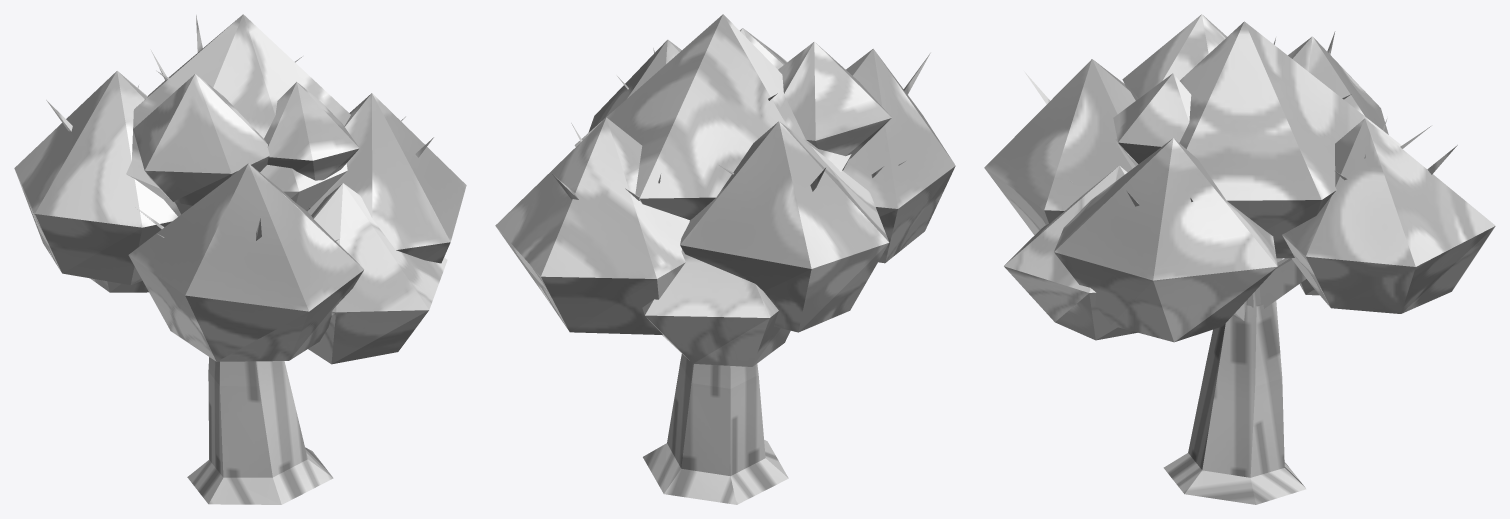
File: tree_oak_1.obj
The picture shows the model from 3 angles, left to right: view 1: azimuth 30°, elevation 25°; view 2: azimuth 150°, elevation 25°; view 3: azimuth 270°, elevation 25°; orthographic projection. The views are drawn at different scales.
Visible parts, largest first — view 1: tree_oak_1; view 2: tree_oak_1; view 3: tree_oak_1.
Boxes of the visible parts, x1,y1,x2,y2 form: tree_oak_1: [14, 14, 466, 504]; tree_oak_1: [495, 14, 955, 504]; tree_oak_1: [984, 14, 1495, 504].
Size of the model in its own units: 0.8444 by 1.04 by 1.05.
